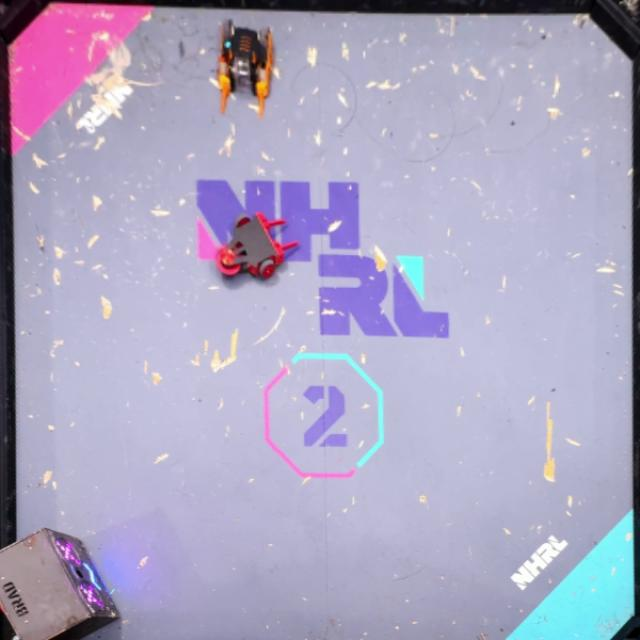housebot: (0, 526, 123, 640)
robot: (217, 212, 298, 282), (217, 18, 273, 117)
